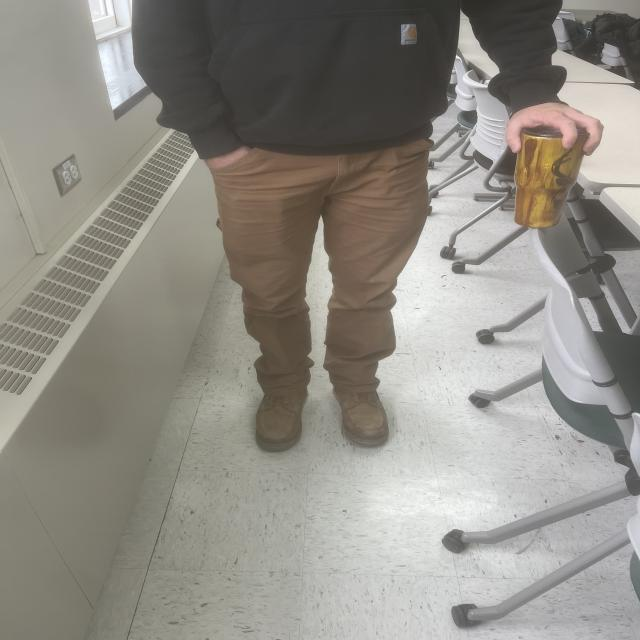Boots: (245, 376, 397, 454)
